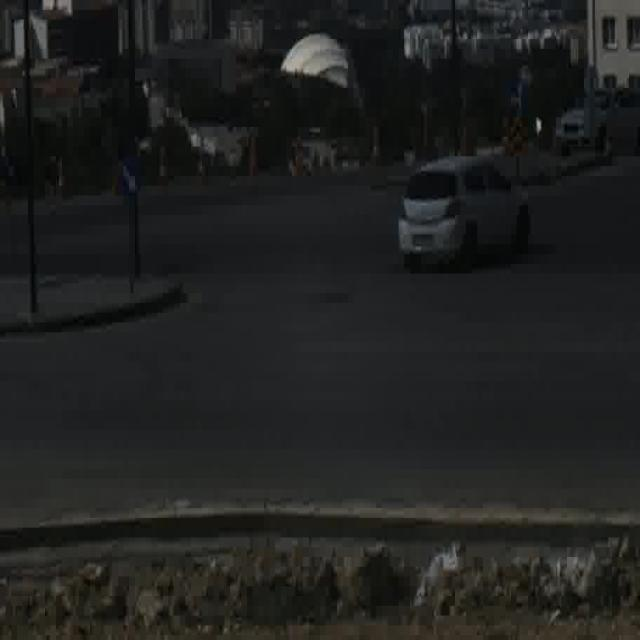Car: (396, 151, 532, 276)
